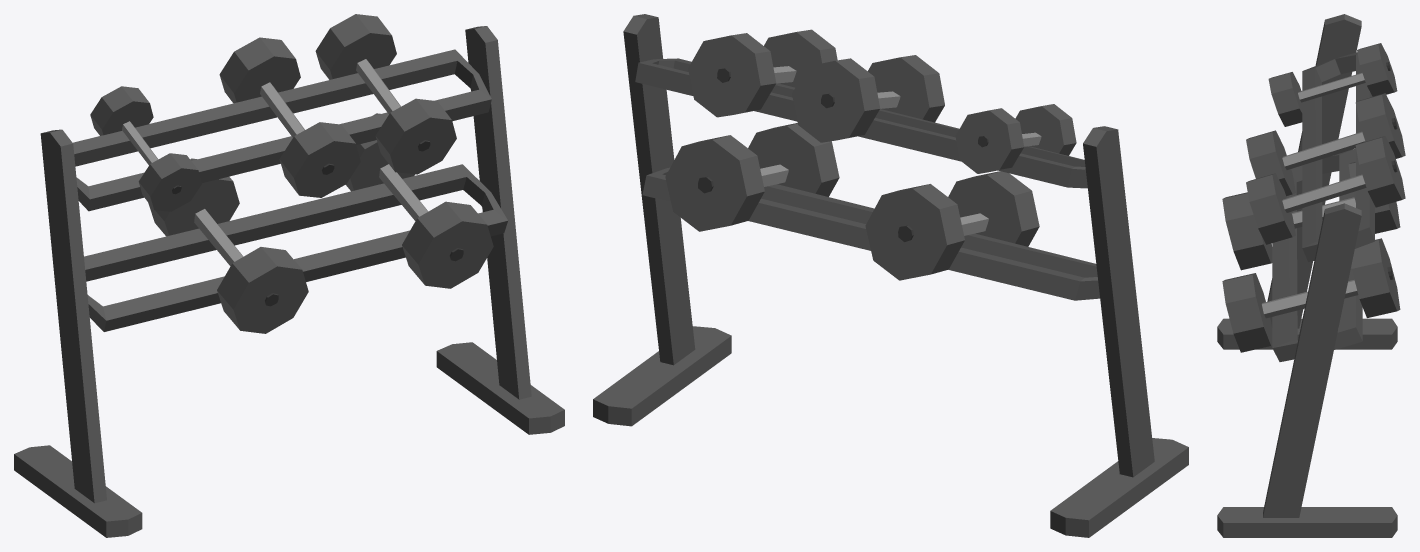
File: Dumbellspasted.fbx
The picture shows the model from 3 angles, left to right: view 1: azimuth 30°, elevation 25°; view 2: azimuth 150°, elevation 25°; view 3: azimuth 270°, elevation 25°; orthographic projection. The views are drawn at different scales.
Parts seen in each view (by area): view 1: Dumbellspasted; view 2: Dumbellspasted; view 3: Dumbellspasted.
Boxes of the visible parts, x1,y1,x2,y2 form: Dumbellspasted: (14, 14, 564, 537); Dumbellspasted: (593, 14, 1188, 537); Dumbellspasted: (1217, 14, 1405, 537).
Bounding box in the file's own units: 160 × 62.17 × 127.
